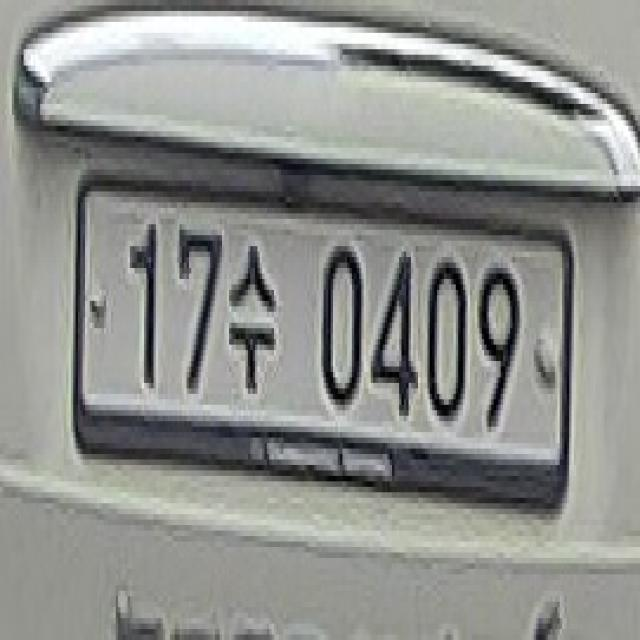0: (423, 240, 470, 427), (319, 235, 366, 416)
1: (120, 202, 163, 400)
4: (366, 241, 423, 432)
7: (172, 213, 225, 405)
9: (472, 240, 522, 438)
license_plate: (71, 170, 571, 520)
su: (226, 240, 278, 404)
